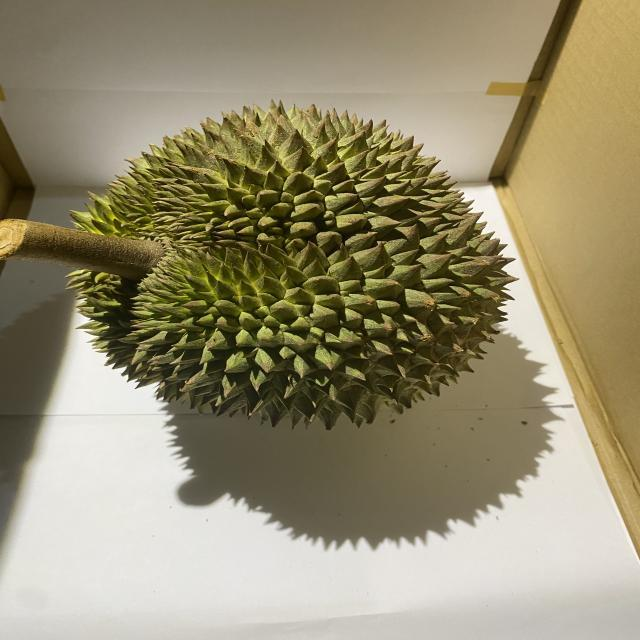immature: (57, 97, 521, 433)
